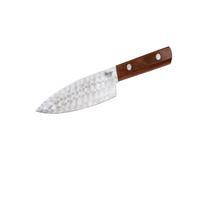knife: (23, 34, 180, 127)
